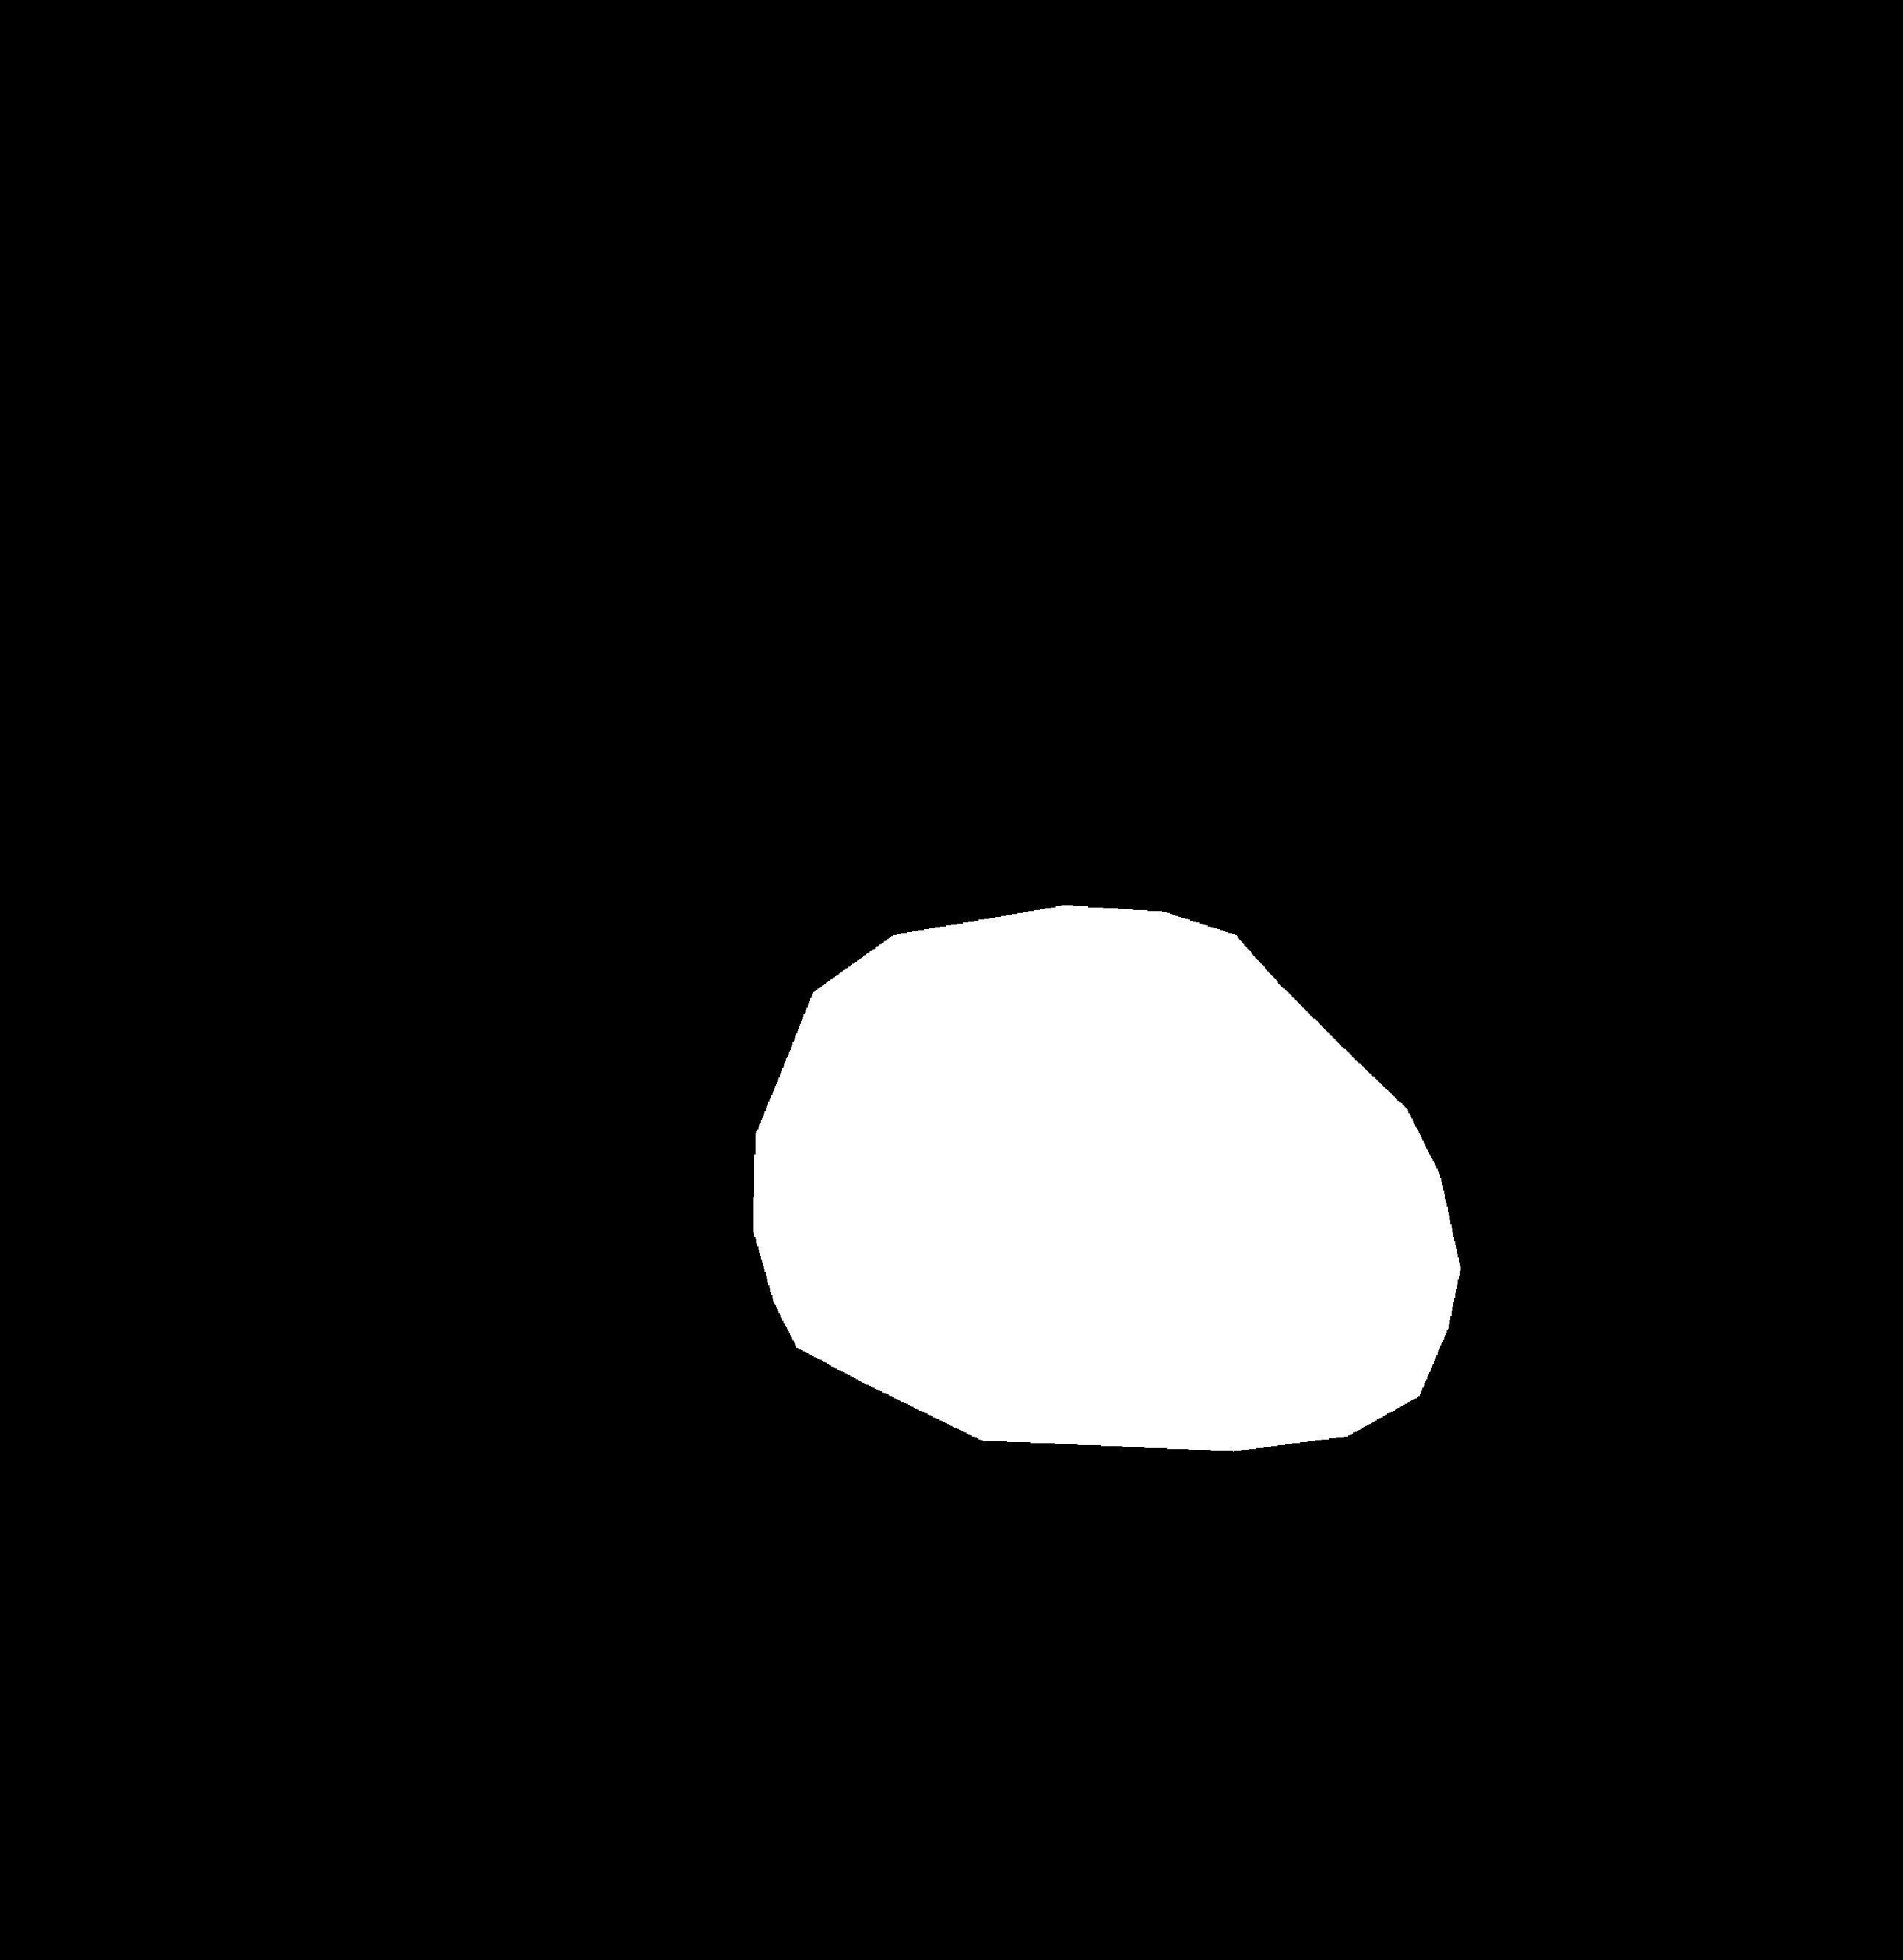heart: (755, 956, 1458, 1496)
left_lung: (210, 215, 895, 1552)
right_lung: (1084, 238, 1702, 1482)
